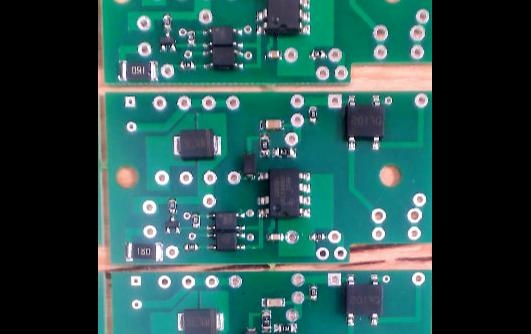chip-capacitor: (259, 117, 286, 130), (261, 296, 286, 307), (264, 48, 284, 60), (267, 231, 285, 241)
chip-resistor: (118, 57, 160, 81), (125, 240, 165, 262), (258, 132, 271, 159), (261, 309, 274, 333), (272, 146, 297, 158), (273, 322, 298, 333), (309, 48, 329, 60), (308, 104, 319, 124), (178, 59, 197, 70), (308, 231, 328, 241), (162, 12, 173, 30), (191, 211, 202, 229), (308, 283, 319, 301), (187, 28, 197, 46), (167, 197, 178, 213), (183, 242, 200, 251)
diode: (172, 126, 223, 160), (177, 306, 227, 334), (241, 150, 257, 179), (244, 324, 260, 334)
ic: (256, 167, 313, 220), (344, 93, 385, 151), (344, 272, 385, 327), (254, 0, 312, 38), (203, 47, 245, 70), (203, 24, 245, 46), (206, 210, 246, 231), (205, 231, 247, 250)
transistor: (160, 30, 178, 52), (165, 215, 182, 235)
